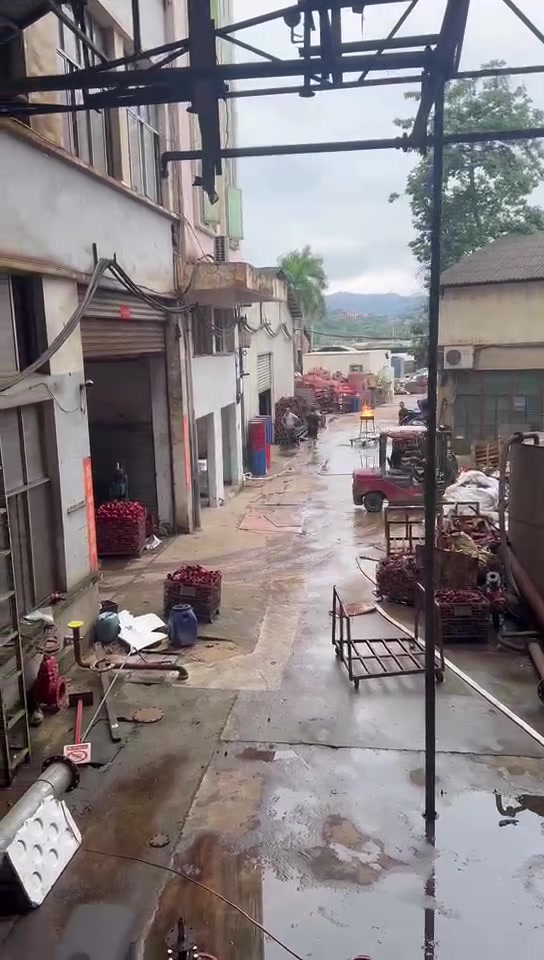fire: (360, 404, 373, 416)
